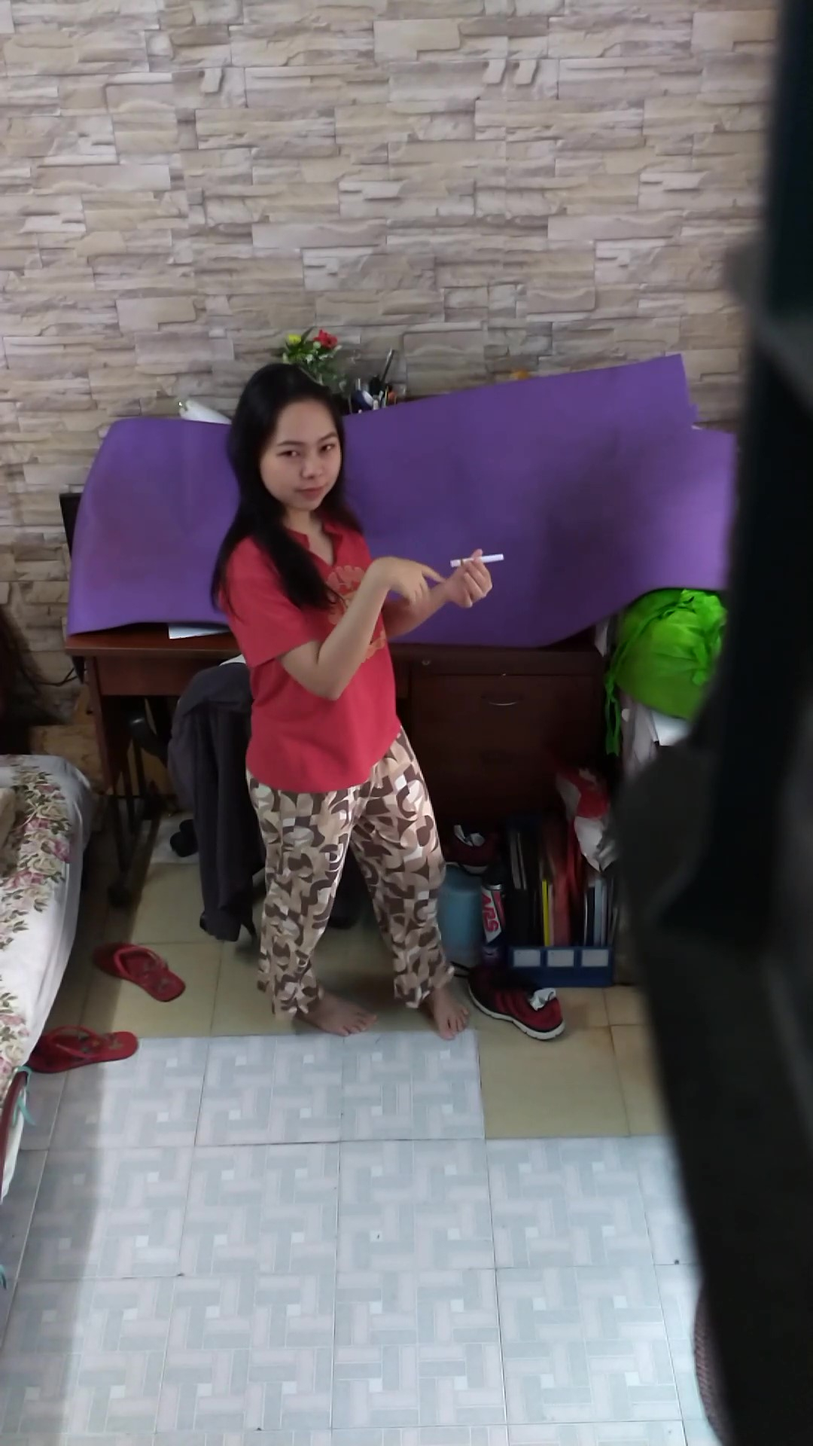cigarette: (447, 549, 507, 571)
person: (212, 359, 498, 1055)
